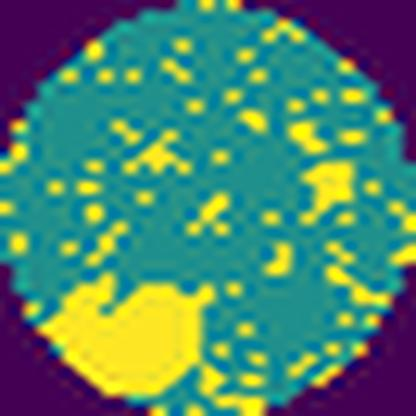Edge-Loc: (38, 270, 217, 400)
